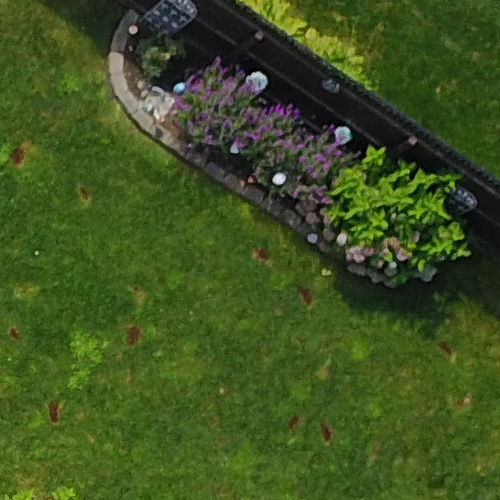container: (243, 63, 272, 97), (333, 118, 355, 143)
